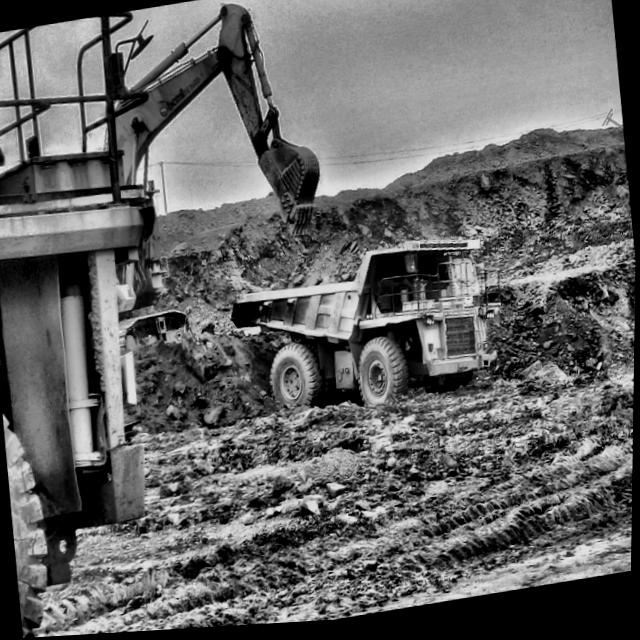dump_truck: (0, 12, 164, 639), (234, 241, 503, 415)
excavator: (104, 7, 320, 240)
